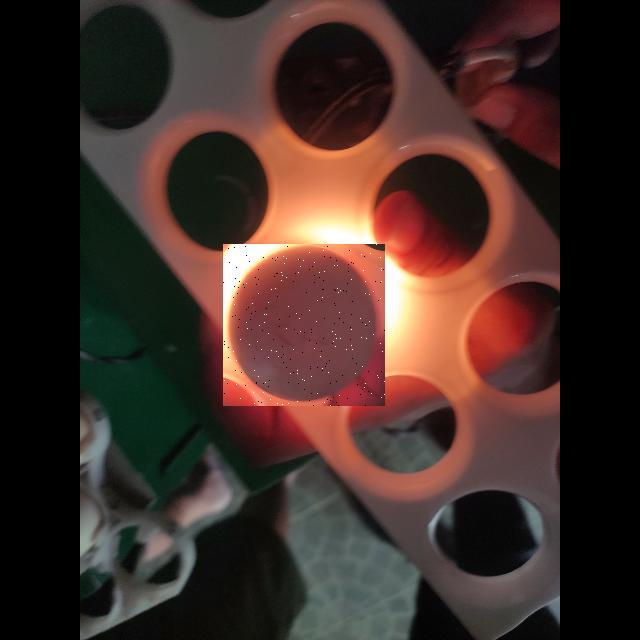Fertile: (223, 244, 385, 406)
